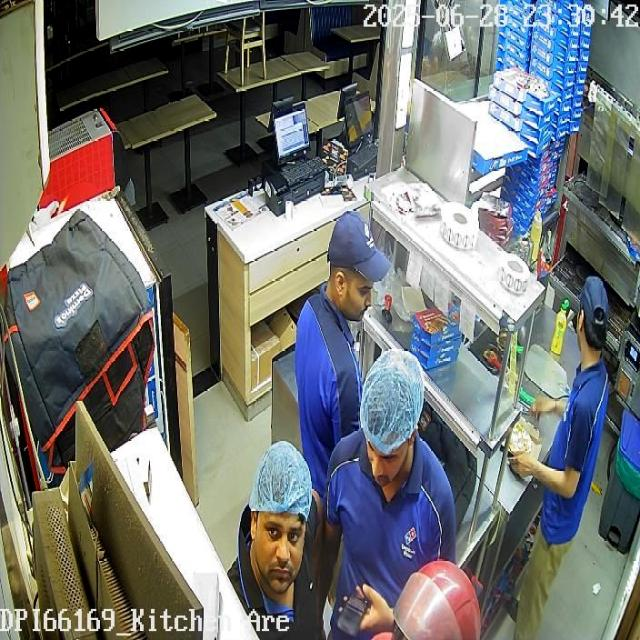helmet: (389, 559, 481, 639)
